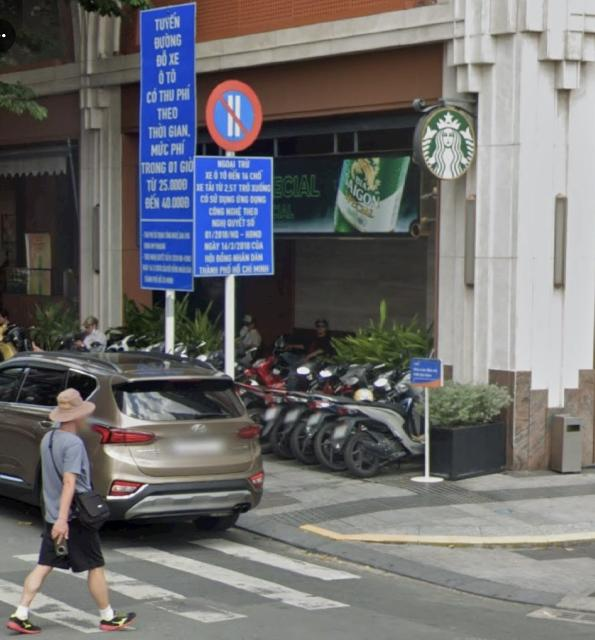131c-cam-do-xe-ngay-chan: (205, 78, 263, 151)
